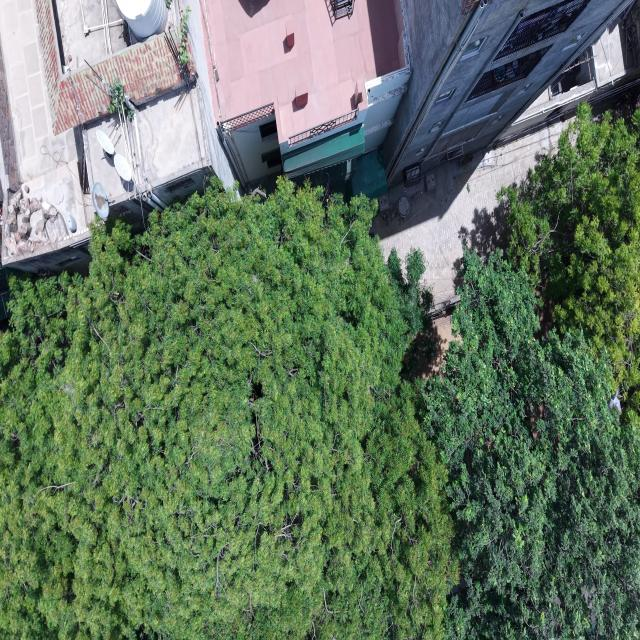ROOFTOP_BUILDING: (0, 0, 631, 271), (199, 0, 632, 195), (372, 0, 639, 303), (0, 0, 210, 272), (384, 0, 633, 184), (201, 0, 410, 185), (206, 0, 404, 142), (502, 0, 639, 140)
VEGETATION_TREE: (0, 107, 639, 639), (0, 180, 457, 639), (422, 253, 639, 639), (501, 104, 639, 410), (388, 249, 435, 379), (388, 249, 432, 335)
